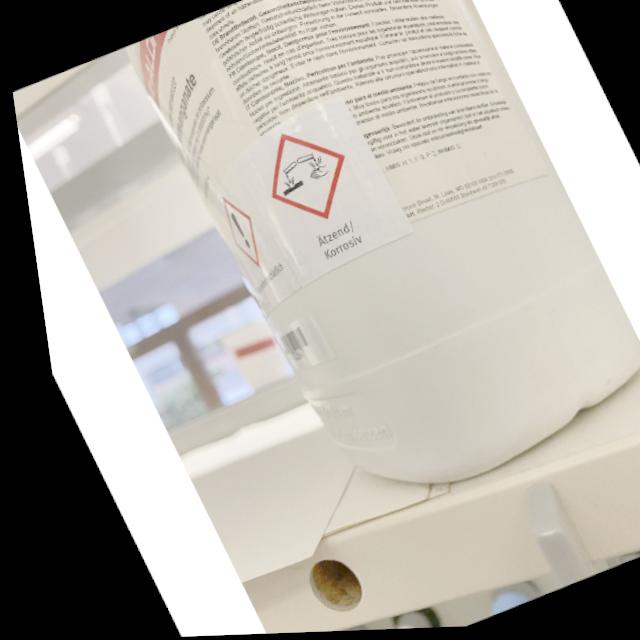corrosive: (237, 116, 365, 237)
health-ozone layer hazard: (201, 189, 264, 274)
